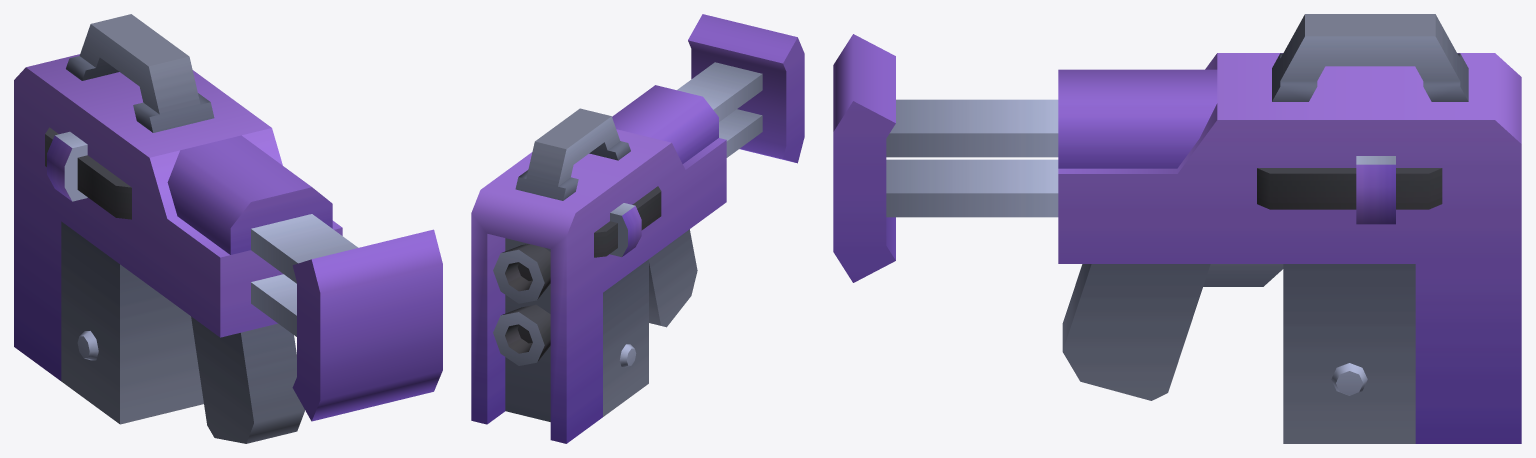
The model's file is blaster-i.glb.
3 renders of one model, left to right at view 1: azimuth 30°, elevation 25°; view 2: azimuth 150°, elevation 25°; view 3: azimuth 270°, elevation 25°, orthographic. The views are drawn at different scales.
Parts seen in each view (by area): view 1: blaster-i; view 2: blaster-i; view 3: blaster-i.
Part boxes in pixels (x1,y1,x2,y2): blaster-i: [14, 14, 442, 443]; blaster-i: [471, 14, 804, 443]; blaster-i: [833, 14, 1521, 443].
Bounding box in the file's own units: 0.165 × 0.32 × 0.52.
1 material, 1 textured.
